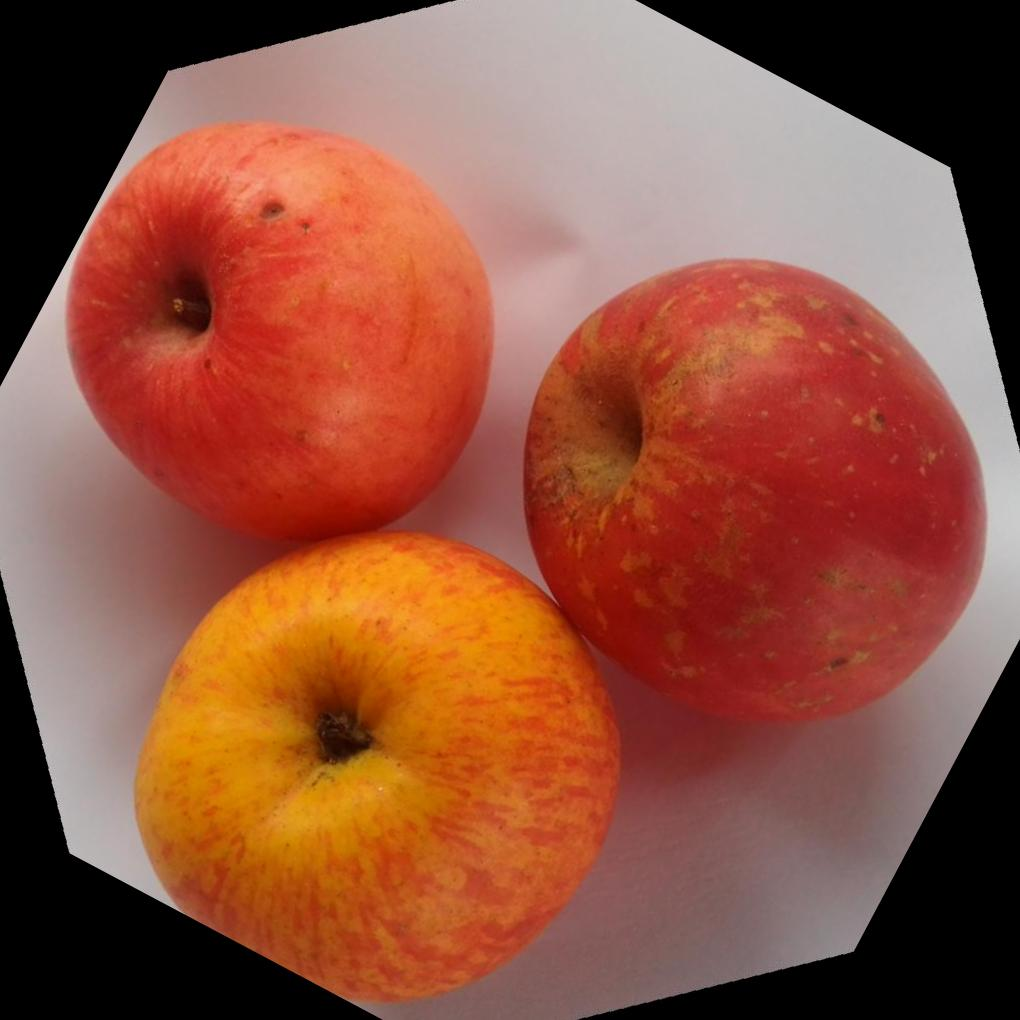FreshGuava: (63, 117, 988, 1000)
